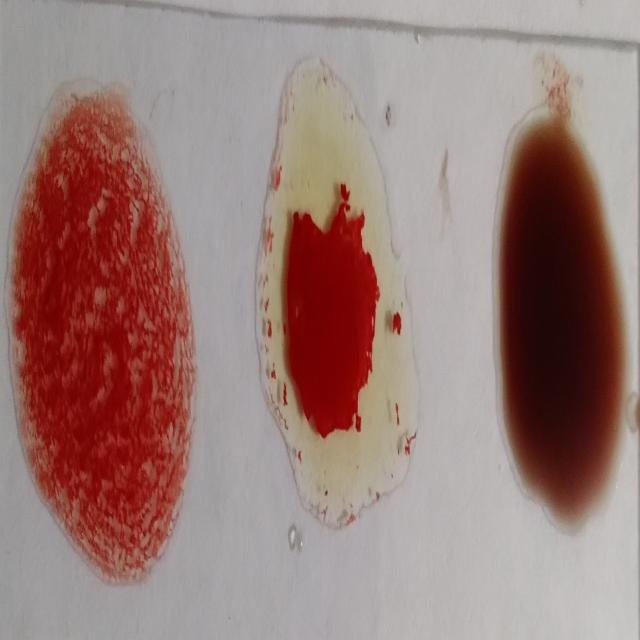B: (261, 60, 400, 528)
D: (9, 79, 196, 587)
